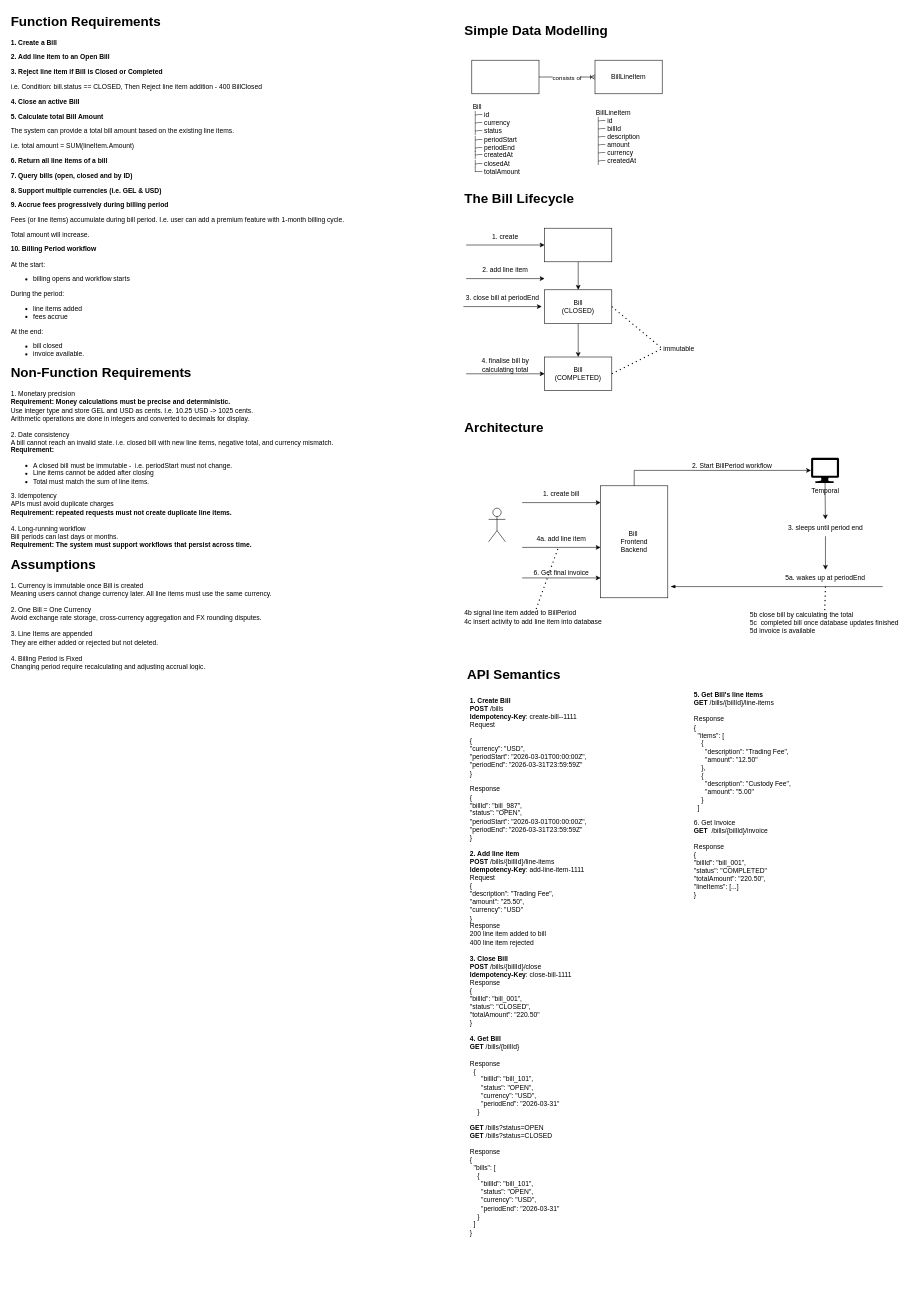
Image size: 915x1301. Some labels were removed from this diagram. The box of each missing label's shape, as (x1, y1, x2, y2) in pixels:
Bill: (471, 60, 539, 94)
Bill (OPEN): (544, 228, 612, 262)
Users: (488, 508, 505, 542)
